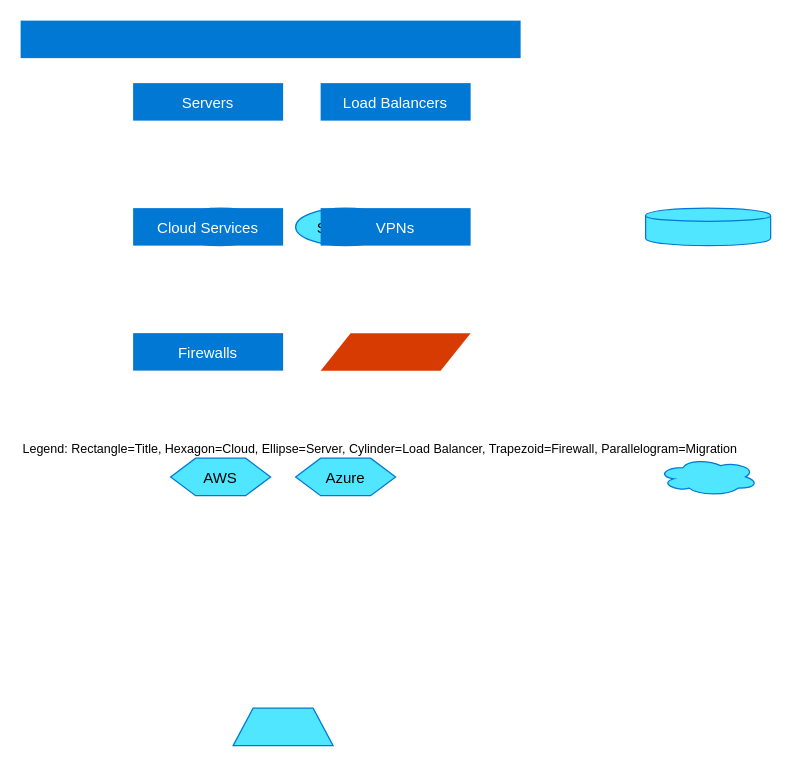
This 791x766 diagram has some shape labels left out. The centre of each missing label's shape, as x and y in pixels:
"Firewall 1" goes at (282,726).
"Load Balancer" goes at (707,226).
"Migration" goes at (395,351).
"Multi-Cloud Deployment - RiverMeadow" goes at (270,39).
"VPN Connection" goes at (707,476).
